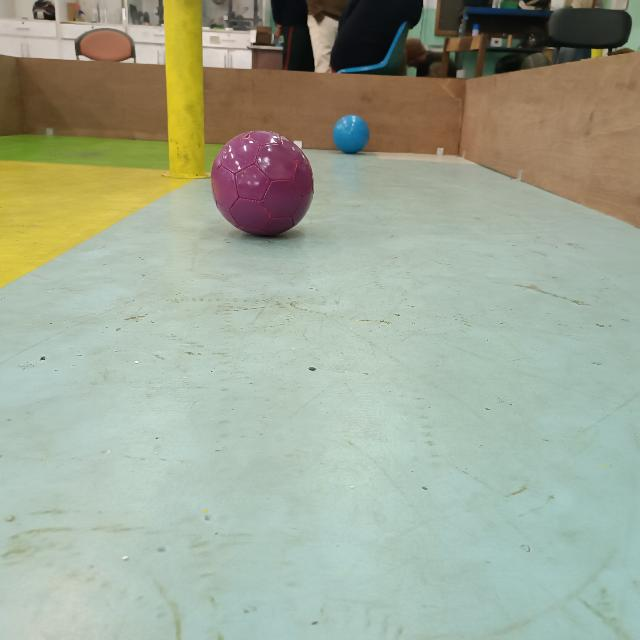B: (332, 114, 370, 156)
P: (210, 130, 316, 238)
